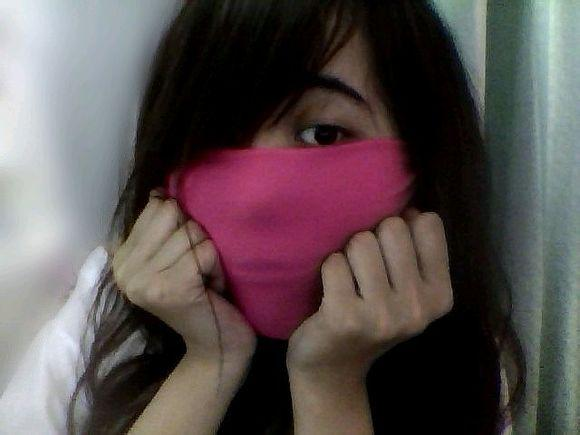OK: (182, 67, 433, 318)
